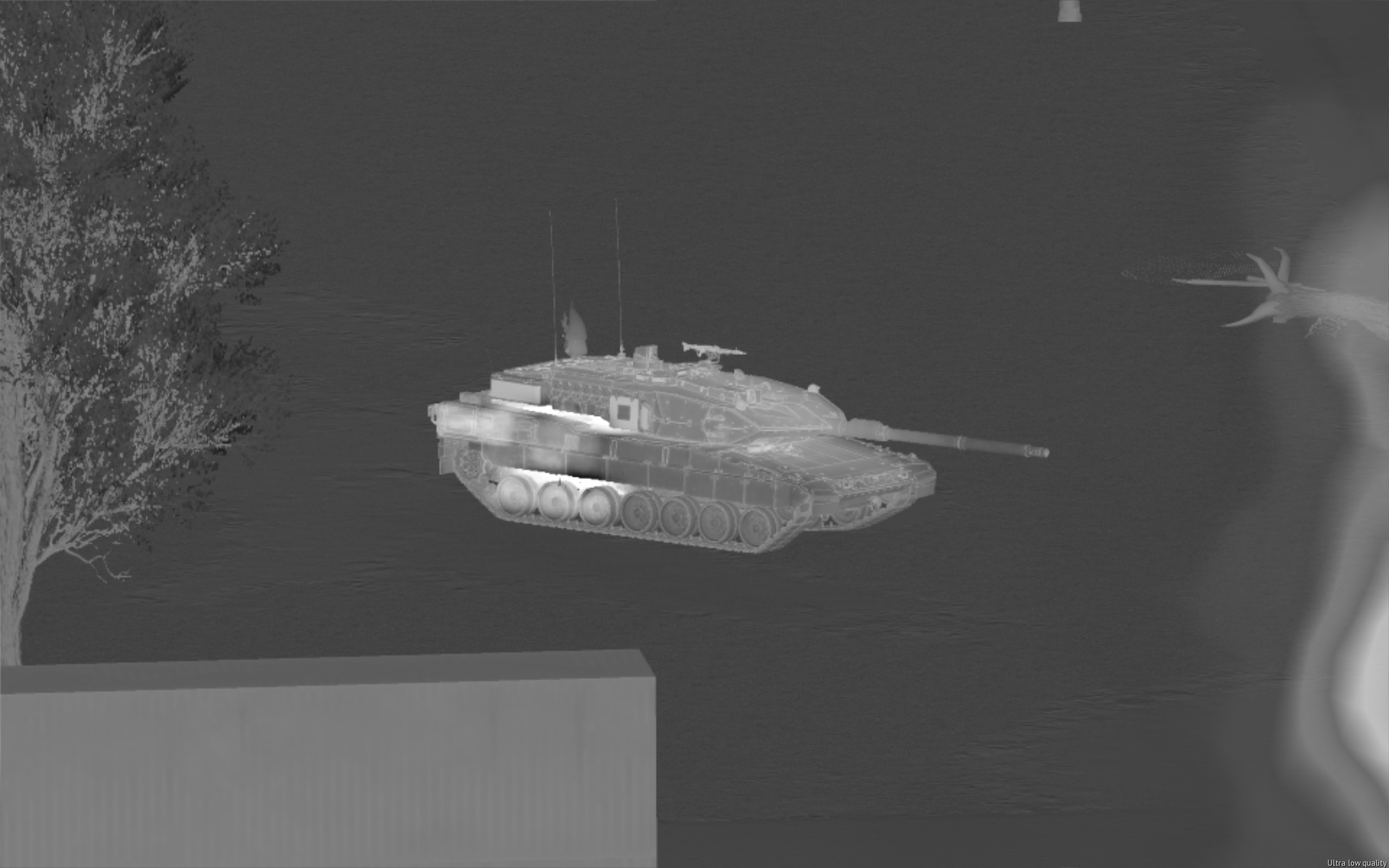leopard2: (429, 343, 1051, 554)
